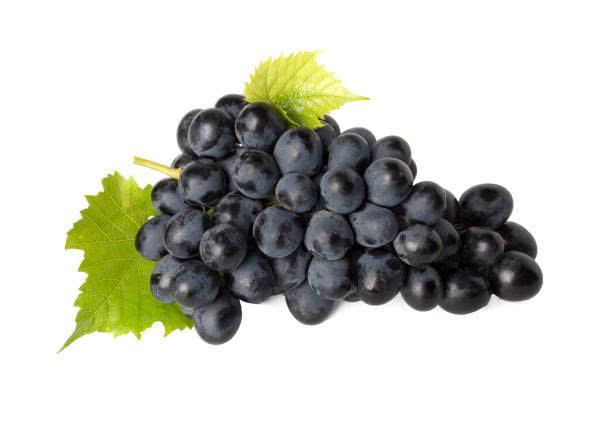grape: (122, 72, 553, 342)
